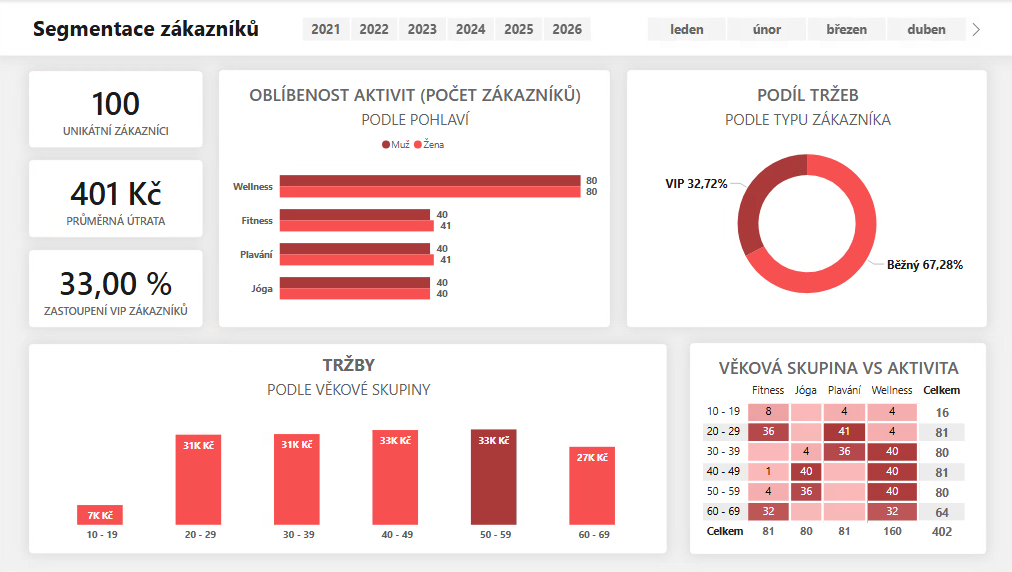

The dashboard page shown, as its layout file describes it:
{"tool":"powerbi","page":{"name":"Segmentace zákazníků","canvas":[1280,720],"ordinal":2},"visuals":[{"type":"pivotTable","title":"VĚKOVÁ SKUPINA VS AKTIVITA","fields":{"Rows":["Zakaznici.VekInterval"],"Columns":["Aktivity.Typ"],"Values":["CountNonNull(Rezervace.RezervaceID)"]},"box":[869.9,431.2,371.6,264.7],"z":0},{"type":"clusteredColumnChart","title":"TRŽBY","fields":{"Category":["Zakaznici.VekInterval"],"Y":["Sum(Rezervace.Cena)"]},"box":[40.1,431.8,801,263.1],"z":1000},{"type":"donutChart","title":"PODÍL TRŽEB","fields":{"Category":["Zakaznici.TypZakaznika"],"Y":["Sum(Rezervace.Cena)"]},"box":[791.6,88.2,452.3,323.1],"z":2000},{"type":"clusteredBarChart","title":"OBLÍBENOST AKTIVIT (POČET ZÁKAZNÍKŮ)","fields":{"Category":["Aktivity.Typ"],"Y":["CountNonNull(Rezervace.RezervaceID)"],"Series":["Zakaznici.Pohlavi"]},"box":[278.4,88.2,490.9,323.1],"z":3000},{"type":"shape","box":[0,0,1280,69.6],"z":4000},{"type":"textbox","box":[39.6,10.8,317.9,49.2],"z":5000},{"type":"card","title":"UNIKÁTNÍ KLIENTI","fields":{"Values":["Rezervace.UnikatniZakaznici"]},"box":[40.5,88.7,218,96.5],"z":6000},{"type":"card","title":"UNIKÁTNÍ KLIENTI","fields":{"Values":["Rezervace.PrumernaUtrata"]},"box":[40.6,200.9,218,97.2],"z":7000},{"type":"card","title":"UNIKÁTNÍ KLIENTI","fields":{"Values":["Rezervace.PodilVIP"]},"box":[40.6,314.1,218,97.2],"z":8000},{"type":"slicer","title":"ROK","fields":{"Values":["Kalendar.Rok Hierarchy.Rok"]},"box":[358.1,15.4,411.6,41.2],"z":9000},{"type":"slicer","title":"ROK","fields":{"Values":["Kalendar.Rok Hierarchy.Měsíc"]},"box":[791.3,15.4,449.6,40.1],"z":10000}]}

Visuals, with their boxes in screenshot pixels (x1, y1, x2, y2), scaled from the page's 1280x720 canvas onto the 1012x572 screenshot:
"VĚKOVÁ SKUPINA VS AKTIVITA" pivotTable: [688, 343, 982, 553]
"TRŽBY" clusteredColumnChart: [32, 343, 665, 552]
"PODÍL TRŽEB" donutChart: [626, 70, 983, 327]
"OBLÍBENOST AKTIVIT (POČET ZÁKAZNÍKŮ)" clusteredBarChart: [220, 70, 608, 327]
shape: [0, 0, 1011, 55]
textbox: [31, 9, 283, 48]
"UNIKÁTNÍ KLIENTI" card: [32, 70, 204, 147]
"UNIKÁTNÍ KLIENTI" card: [32, 160, 204, 237]
"UNIKÁTNÍ KLIENTI" card: [32, 250, 204, 327]
"ROK" slicer: [283, 12, 609, 45]
"ROK" slicer: [626, 12, 981, 44]
